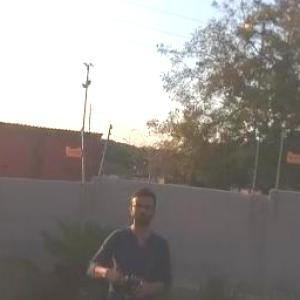follow: (80, 178, 178, 299)
